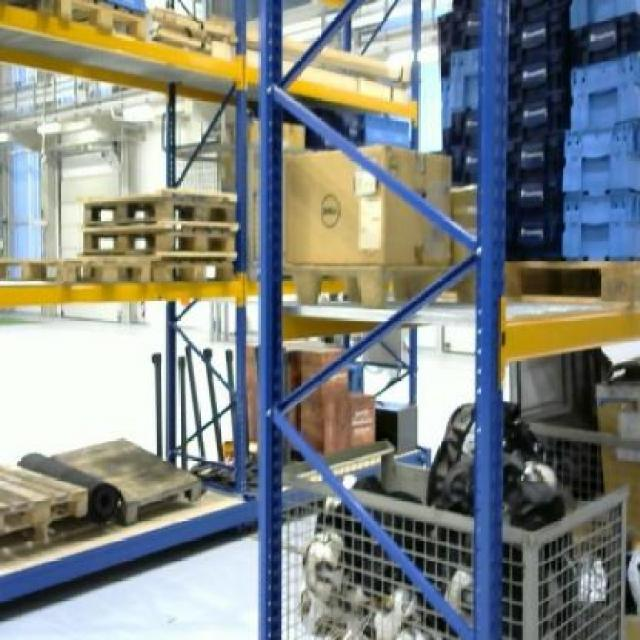box: (282, 142, 452, 262), (296, 398, 349, 457), (294, 348, 348, 397), (350, 390, 376, 448)
